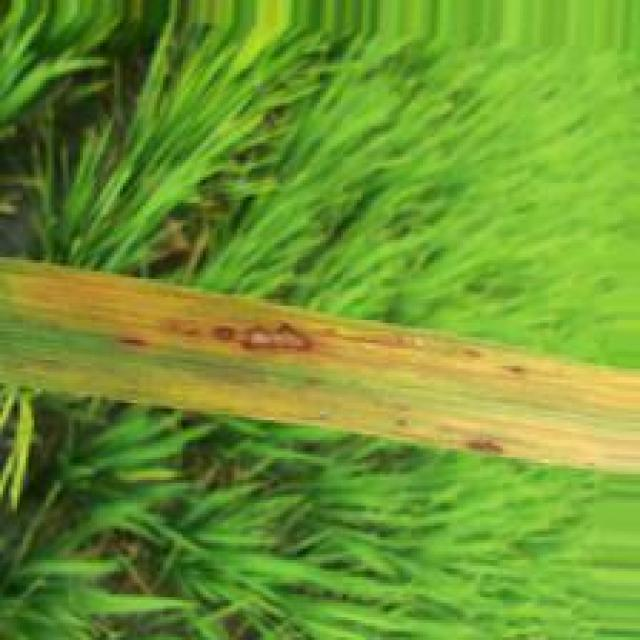Rice Tungro: (239, 320, 322, 357), (109, 333, 162, 353), (464, 436, 513, 456), (209, 323, 239, 348)
